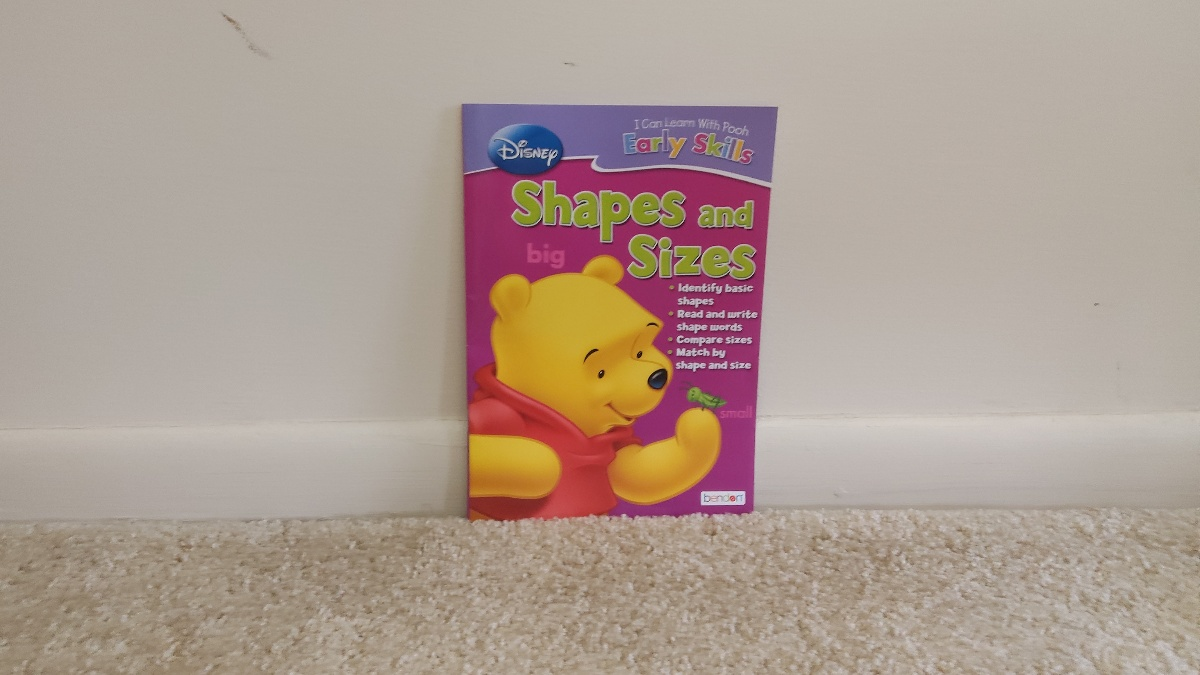book: (465, 105, 753, 513)
